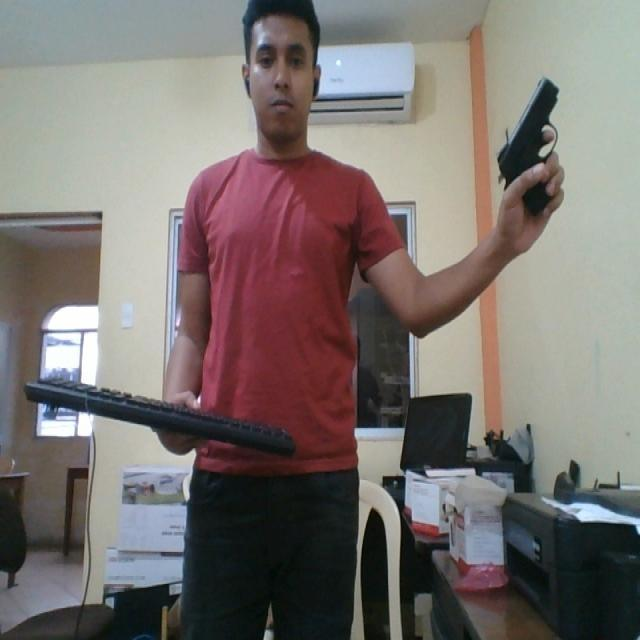weapon: (494, 72, 564, 222)
